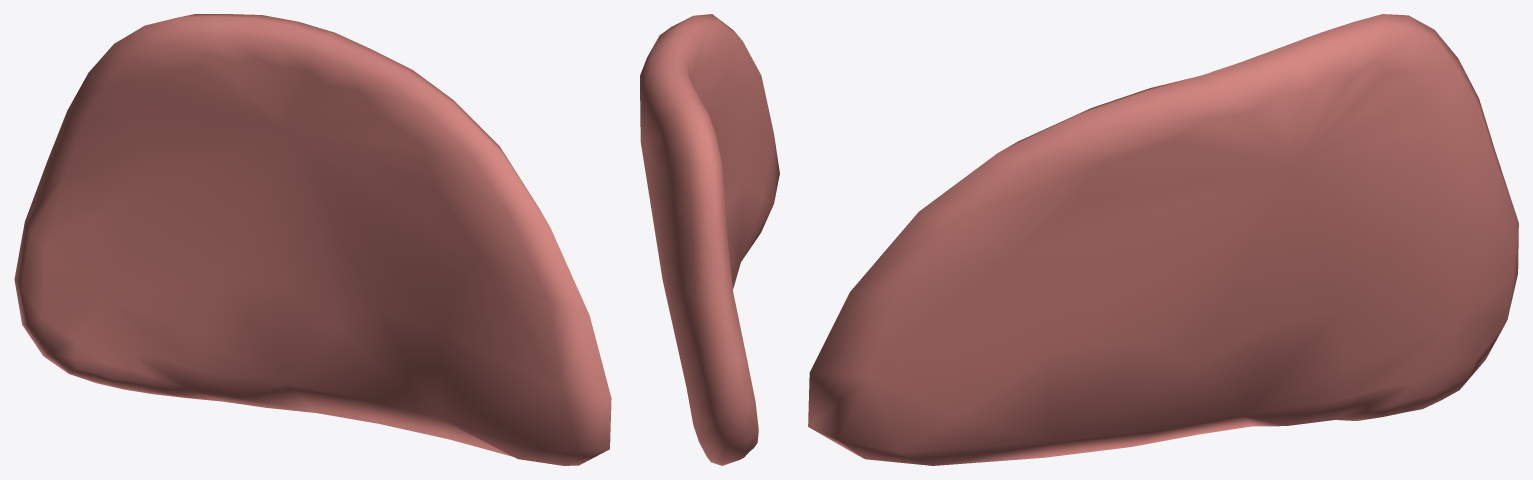
3 views of the same model, side by side, from view 1: azimuth 30°, elevation 25°; view 2: azimuth 150°, elevation 25°; view 3: azimuth 270°, elevation 25° (orthographic). The views are drawn at different scales.
Visible parts, largest first — view 1: ZA_5fe493fd83a7770e; view 2: ZA_5fe493fd83a7770e; view 3: ZA_5fe493fd83a7770e.
Part boxes in pixels (x1,y1,x2,y2): ZA_5fe493fd83a7770e: [14, 14, 611, 465]; ZA_5fe493fd83a7770e: [640, 14, 779, 465]; ZA_5fe493fd83a7770e: [808, 14, 1518, 465].
Size of the model in its own units: 0.00275 by 0.00332 by 0.00508.
